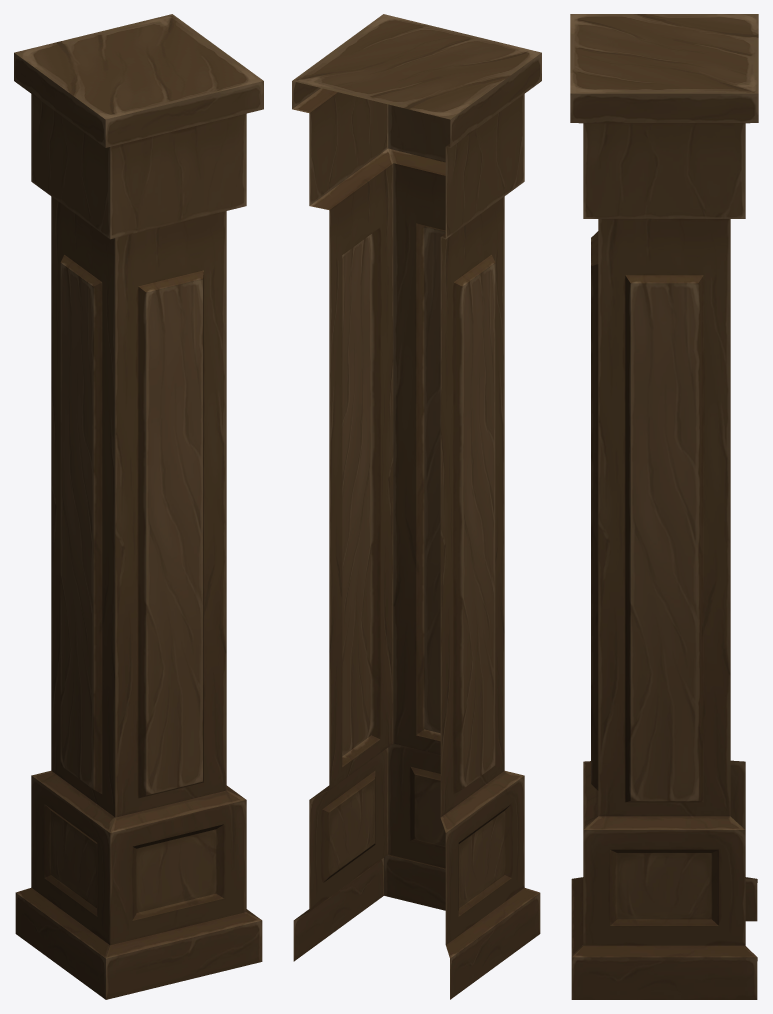
File: Pillar_2_2.FBX
3 renders of one model, left to right at view 1: azimuth 30°, elevation 25°; view 2: azimuth 150°, elevation 25°; view 3: azimuth 270°, elevation 25°, orthographic. The views are drawn at different scales.
Visible parts, largest first — view 1: Pillar_2_2; view 2: Pillar_2_2; view 3: Pillar_2_2.
Boxes of the visible parts, left/top/right/bottom form: Pillar_2_2: left=14, top=14, right=263, bottom=999; Pillar_2_2: left=292, top=14, right=541, bottom=999; Pillar_2_2: left=570, top=14, right=758, bottom=999.
Size of the model in its own units: 583 by 3100 by 583.
